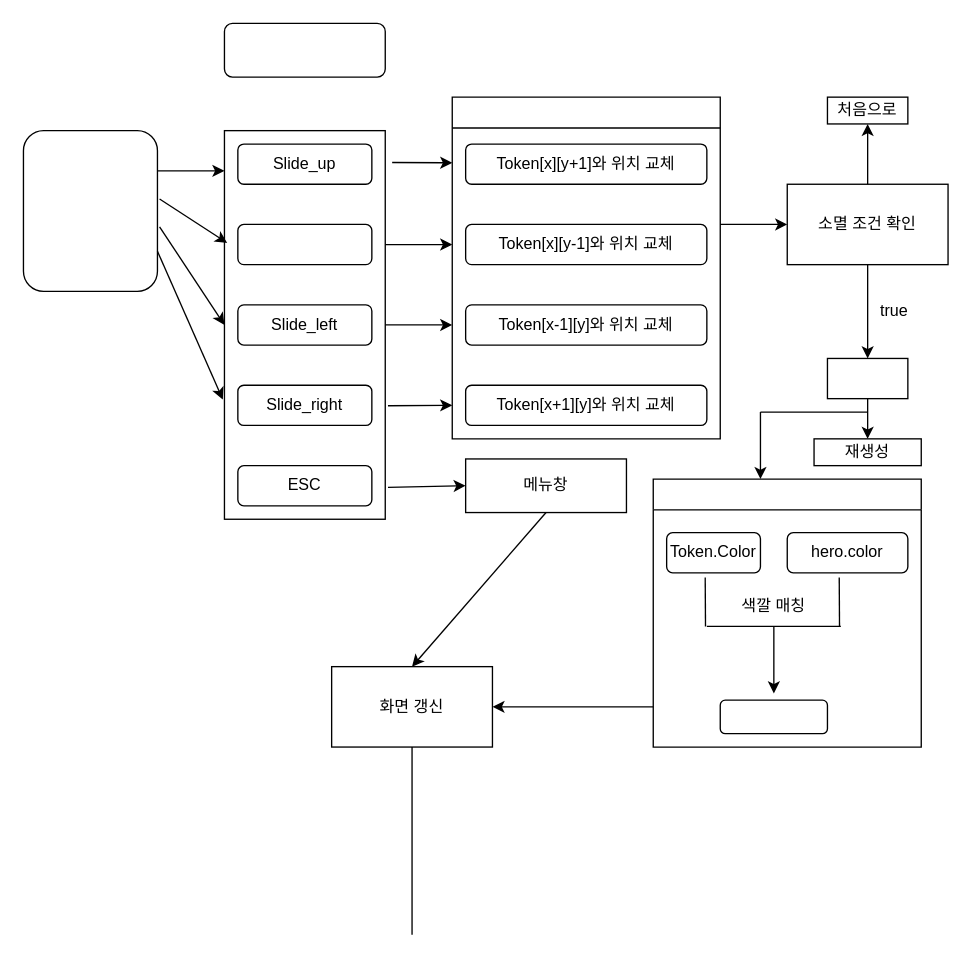
The diagram is 972 pixels wide and 959 high, and some of its shapes have lost their labels. Each missing label, with the box of its shape:
2차원 배열 Token[x][y]: (22, 129, 157, 291)
attack: (719, 699, 827, 734)
Slide_down: (237, 223, 372, 265)
소멸: (826, 357, 908, 399)
캐릭터 공격: (652, 478, 921, 747)
키 이벤트 발생: (223, 22, 385, 77)
퍼즐 이동: (451, 96, 720, 439)
